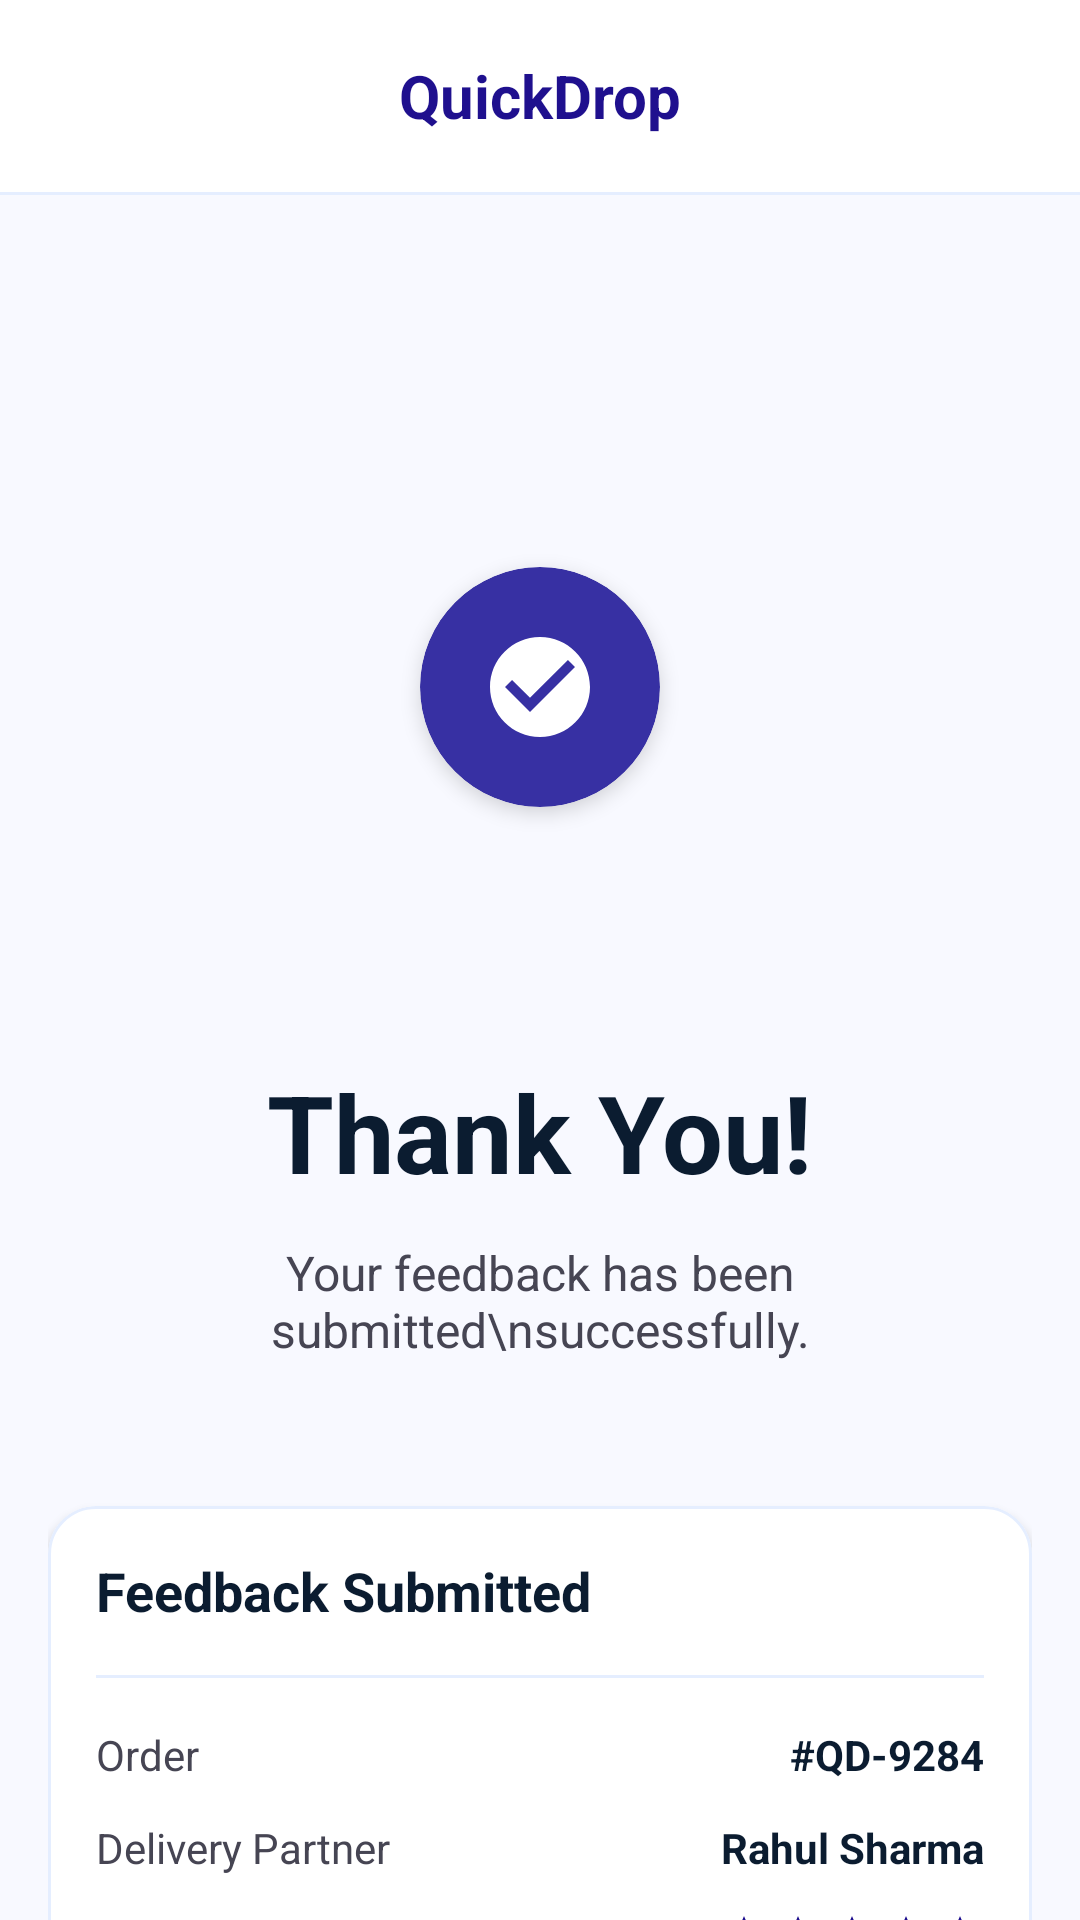

Where icons sit on this 1080w x 1920h app screen, as (x1, y1, x2, y2):
check circle: (420, 567, 660, 807)
